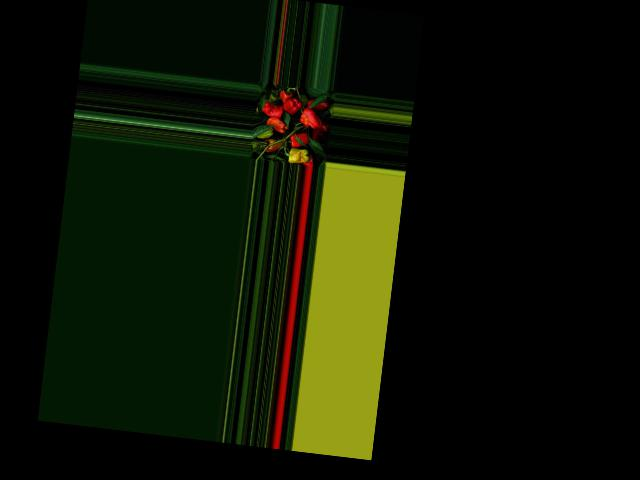bell_pepper: (278, 88, 290, 102)
